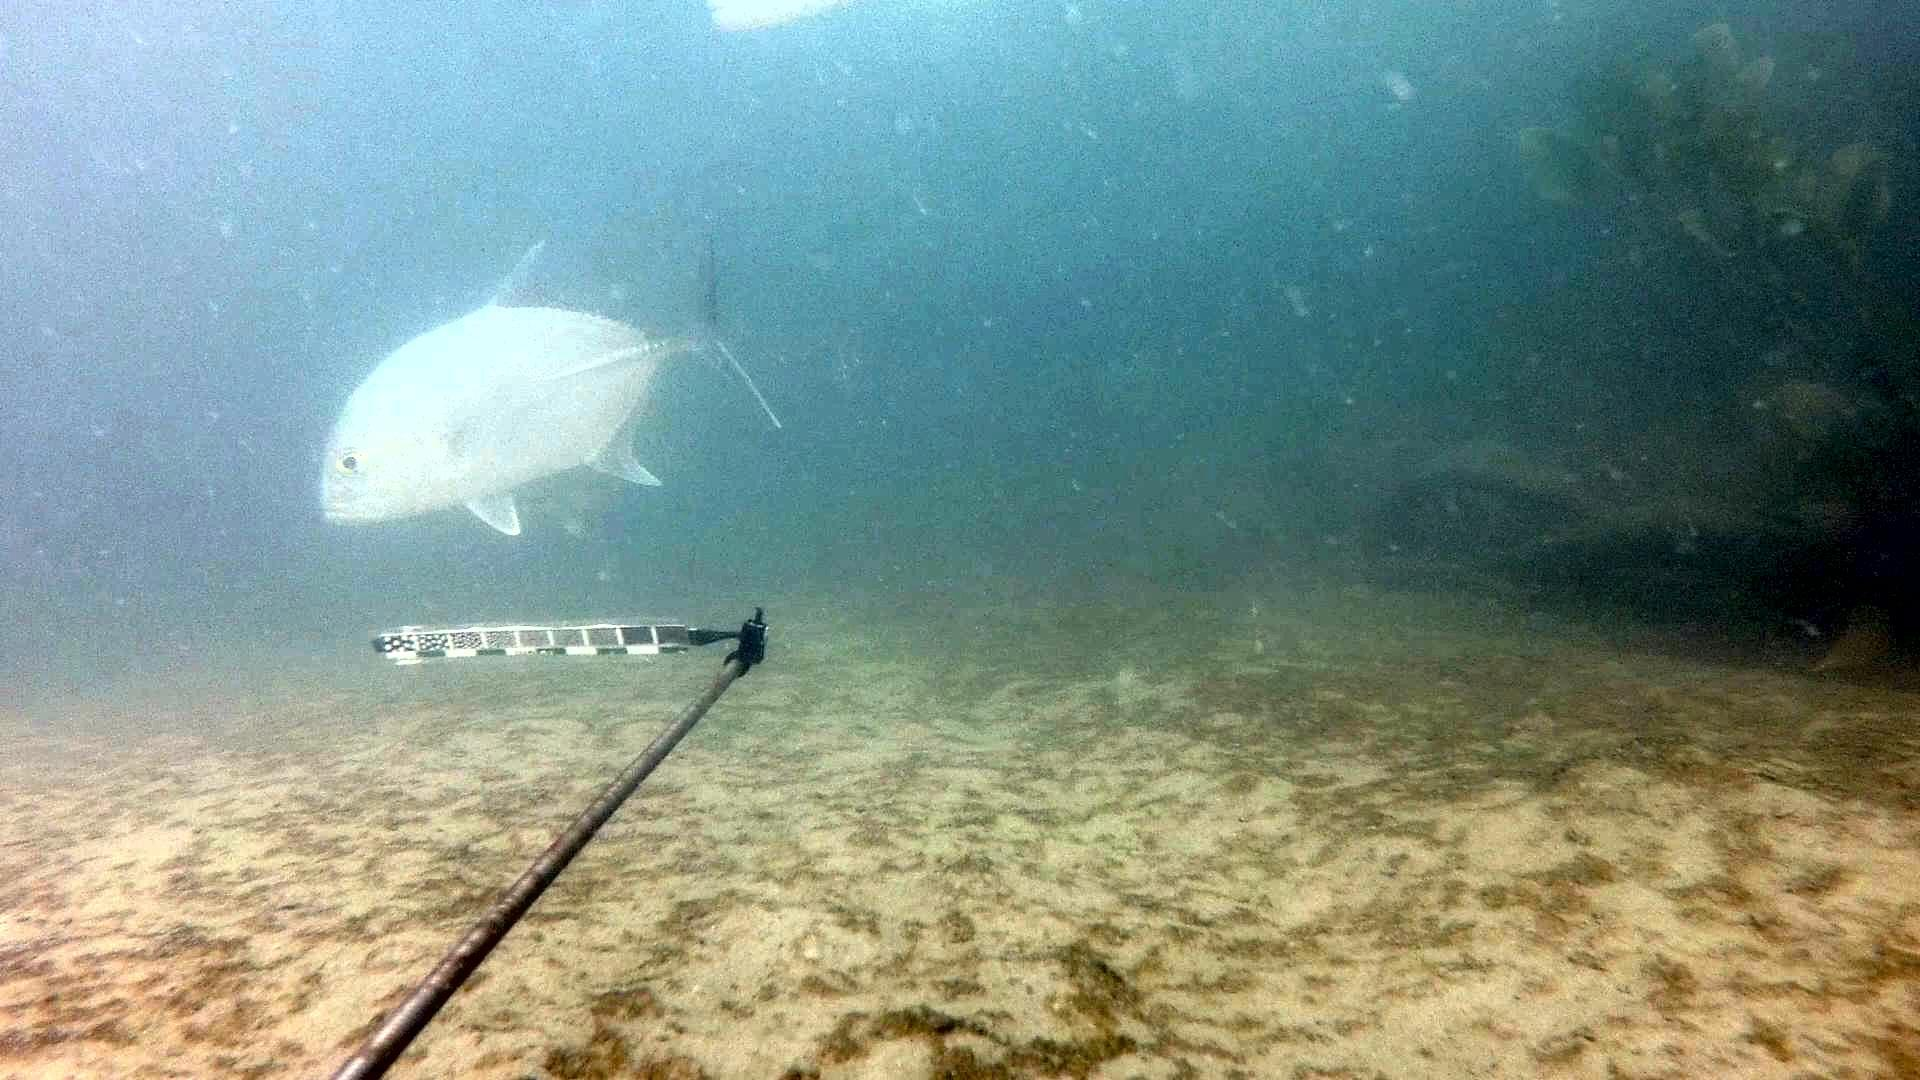caranx: (288, 216, 797, 544)
